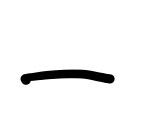minus: (18, 67, 119, 87)
